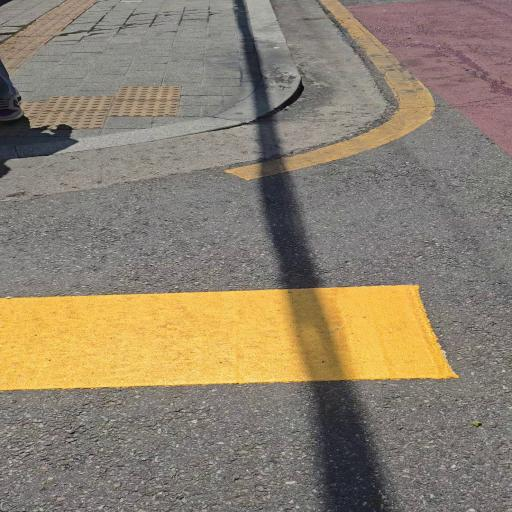yellow-crosswalk: (1, 235, 512, 512)
